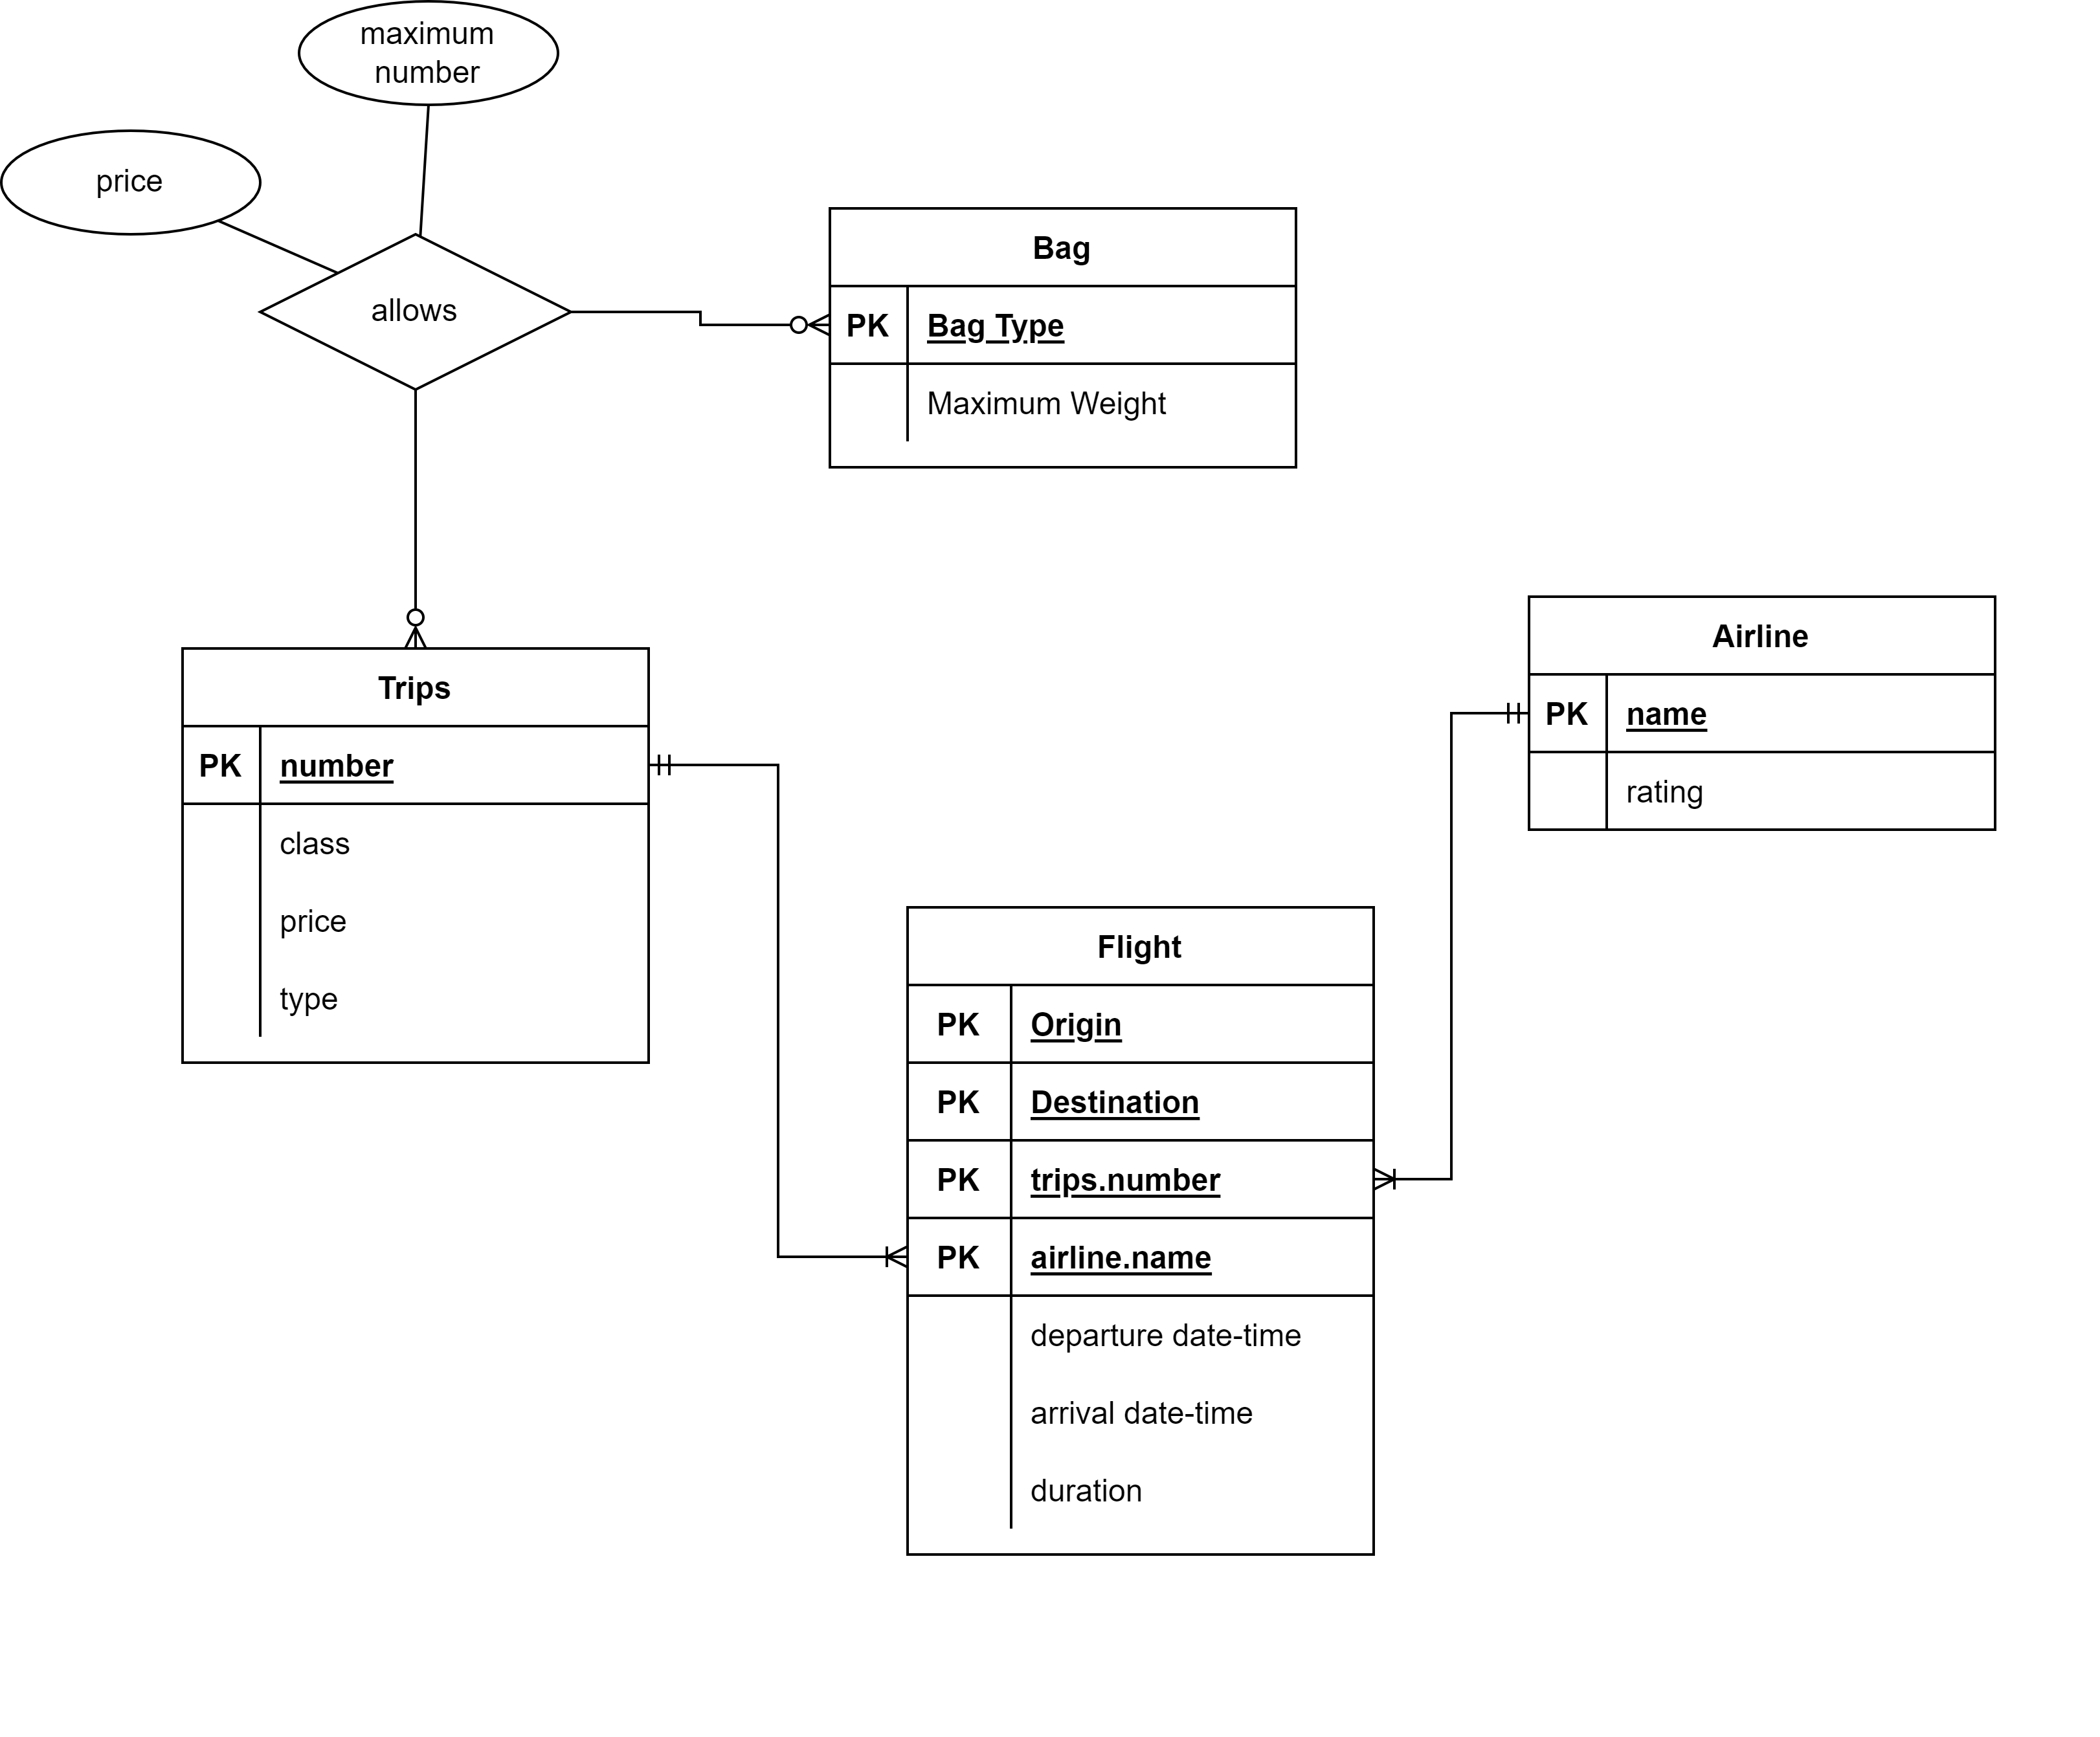entity: (910, 907, 1374, 1554), (180, 644, 652, 1064), (828, 211, 1298, 469), (1524, 591, 2001, 828)
many: (827, 1221, 912, 1289), (1367, 1141, 1453, 1207), (757, 291, 834, 356), (382, 588, 453, 649)
one: (652, 736, 726, 795), (1448, 691, 1528, 738)
rel: (260, 234, 574, 389)
rel_attr: (0, 124, 265, 239), (291, 0, 560, 103)
